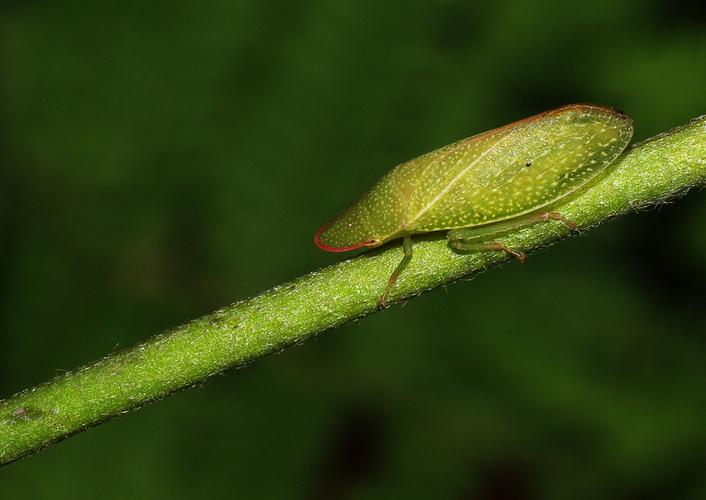Cicadellidae: (311, 101, 633, 253)
